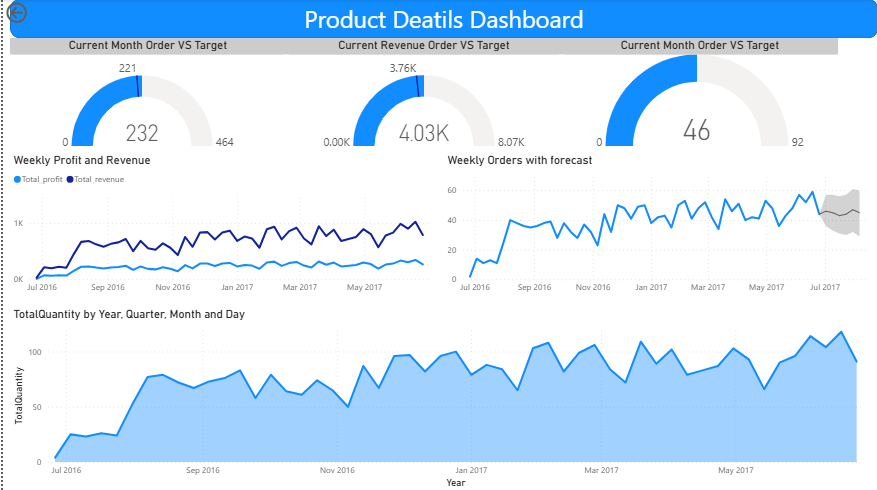

Layout of this report page (visuals, bound fields, positions):
{"tool":"powerbi","page":{"name":"Product Details","canvas":[1280,720],"ordinal":1},"visuals":[{"type":"shape","box":[9.7,0,1270.3,57.4],"z":0},{"type":"lineChart","title":"Weekly Profit and Revenue","fields":{"Y":["Sales_Data.Total_profit","Sales_Data.Total_revenue"],"Category":["Calendar_Lookup.Start of Week.Variation.Date Hierarchy.Year","Calendar_Lookup.Start of Week.Variation.Date Hierarchy.Quarter","Calendar_Lookup.Start of Week.Variation.Date Hierarchy.Month","Calendar_Lookup.Start of Week.Variation.Date Hierarchy.Day"]},"box":[10.2,225.4,635.1,215.1],"z":1000},{"type":"lineChart","title":"Weekly Orders with forecast","fields":{"Category":["Calendar_Lookup.Start of Week.Variation.Date Hierarchy.Year","Calendar_Lookup.Start of Week.Variation.Date Hierarchy.Quarter","Calendar_Lookup.Start of Week.Variation.Date Hierarchy.Month","Calendar_Lookup.Start of Week.Variation.Date Hierarchy.Day"],"Y":["Sales_Data.TotalOrder"]},"box":[645.4,225.4,635.1,215.1],"z":3000},{"type":"areaChart","fields":{"Category":["Calendar_Lookup.Start of Week.Variation.Date Hierarchy.Year","Calendar_Lookup.Start of Week.Variation.Date Hierarchy.Quarter","Calendar_Lookup.Start of Week.Variation.Date Hierarchy.Month","Calendar_Lookup.Start of Week.Variation.Date Hierarchy.Day"],"Y":["Sales_Data.TotalQuantity"]},"box":[10,450.6,1270,269.8],"z":4000},{"type":"gauge","title":"Current Month Order VS Target","fields":{"Y":["Sales_Data.TotalOrder"],"TargetValue":["Sales_Data.OrderTarget"]},"box":[10,57,403.7,167.9],"z":5000},{"type":"gauge","title":"Current Revenue Order VS Target","fields":{"TargetValue":["Sales_Data.RevenueTarget"],"Y":["Sales_Data.Total_revenue"]},"box":[413.7,57,403.7,167.9],"z":6000},{"type":"gauge","title":"Current Month Order VS Target","fields":{"Y":["Returns.TotalReturn"],"TargetValue":["Sales_Data.PrevmonRev"]},"box":[817.4,57,403.7,167.9],"z":7000},{"type":"actionButton","box":[0,0,100,40],"z":9000}]}

Visuals, with their boxes in screenshot pixels (x1, y1, x2, y2), scaled from the page's 1280x720 canvas onto the 877x490 screenshot:
shape: left=7, top=0, right=876, bottom=39
"Weekly Profit and Revenue" lineChart: left=7, top=153, right=442, bottom=300
"Weekly Orders with forecast" lineChart: left=442, top=153, right=876, bottom=300
areaChart - Calendar_Lookup.Start of Week.Variation.Date Hierarchy.Year x Calendar_Lookup.Start of Week.Variation.Date Hierarchy.Quarter: left=7, top=307, right=876, bottom=489
"Current Month Order VS Target" gauge: left=7, top=39, right=283, bottom=153
"Current Revenue Order VS Target" gauge: left=283, top=39, right=560, bottom=153
"Current Month Order VS Target" gauge: left=560, top=39, right=837, bottom=153
actionButton: left=0, top=0, right=69, bottom=27
